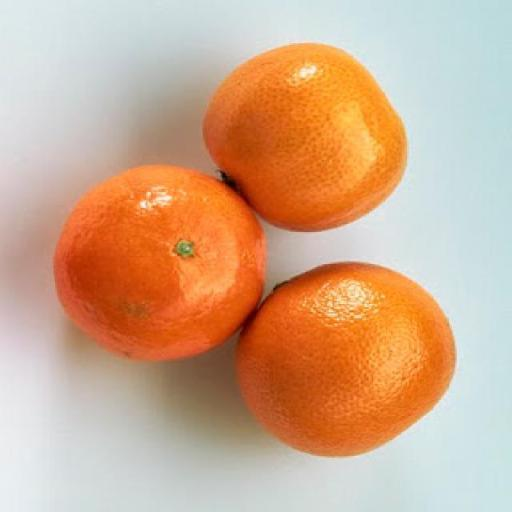fruit: (237, 262, 454, 454), (54, 166, 263, 357), (204, 44, 405, 229)
